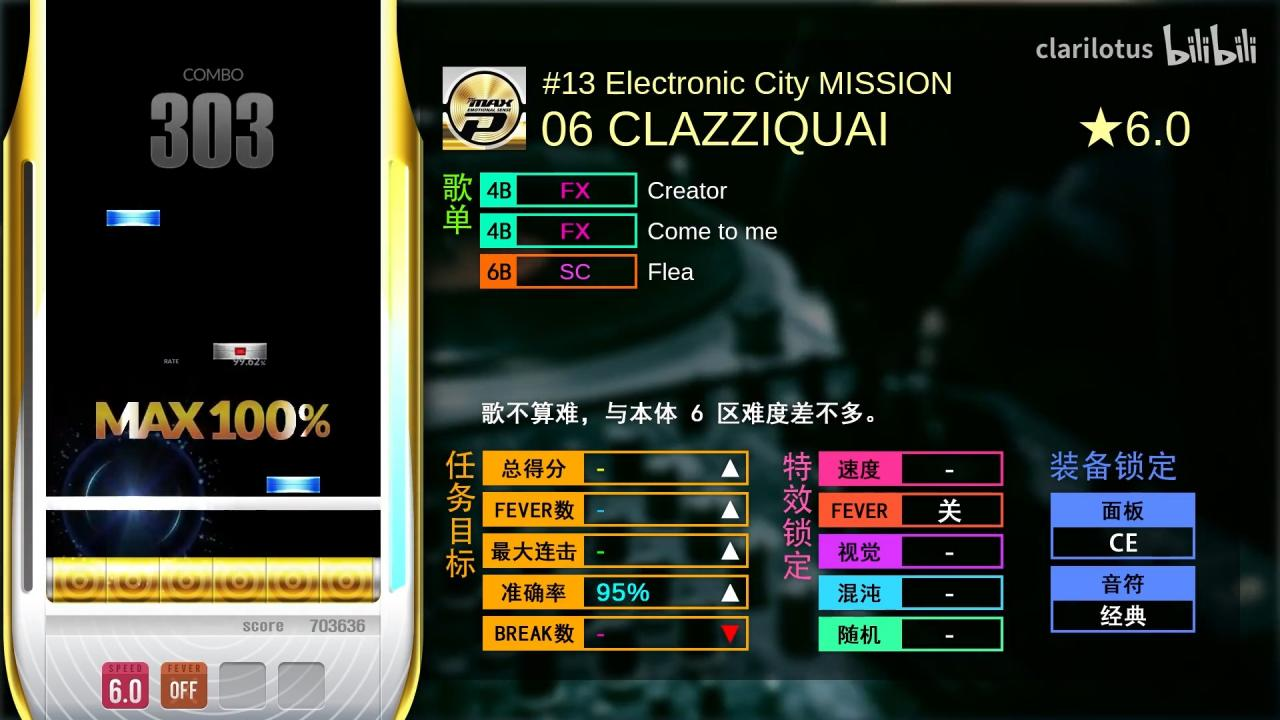note: (214, 342, 267, 360), (106, 209, 160, 226), (266, 476, 320, 493)
